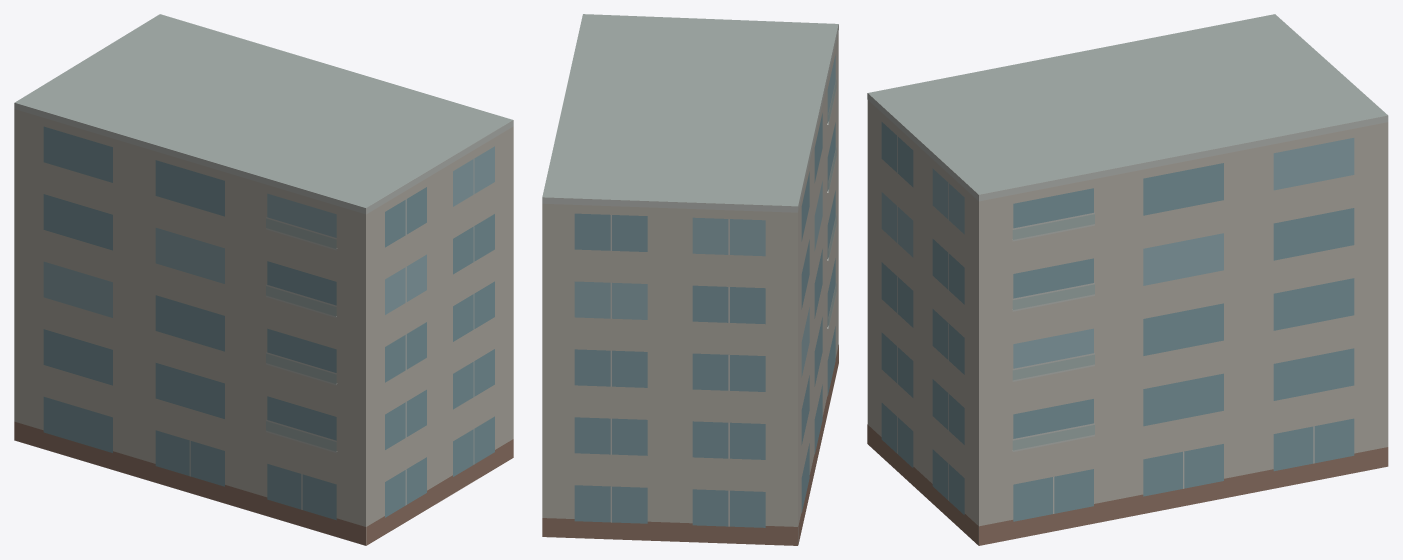
The model's file is survey-upis-32894206.glb.
3 views of the same model, side by side, from view 1: azimuth 30°, elevation 25°; view 2: azimuth 150°, elevation 25°; view 3: azimuth 270°, elevation 25° (orthographic). The views are drawn at different scales.
Parts seen in each view (by area): view 1: survey-upis-32894206.tmp; view 2: survey-upis-32894206.tmp; view 3: survey-upis-32894206.tmp.
Boxes of the visible parts, box(x1,y1,x2,y2) form: survey-upis-32894206.tmp: box(14, 14, 513, 545); survey-upis-32894206.tmp: box(542, 14, 838, 545); survey-upis-32894206.tmp: box(867, 14, 1388, 545).
Size of the model in its own units: 14.37 by 13 by 17.49.
